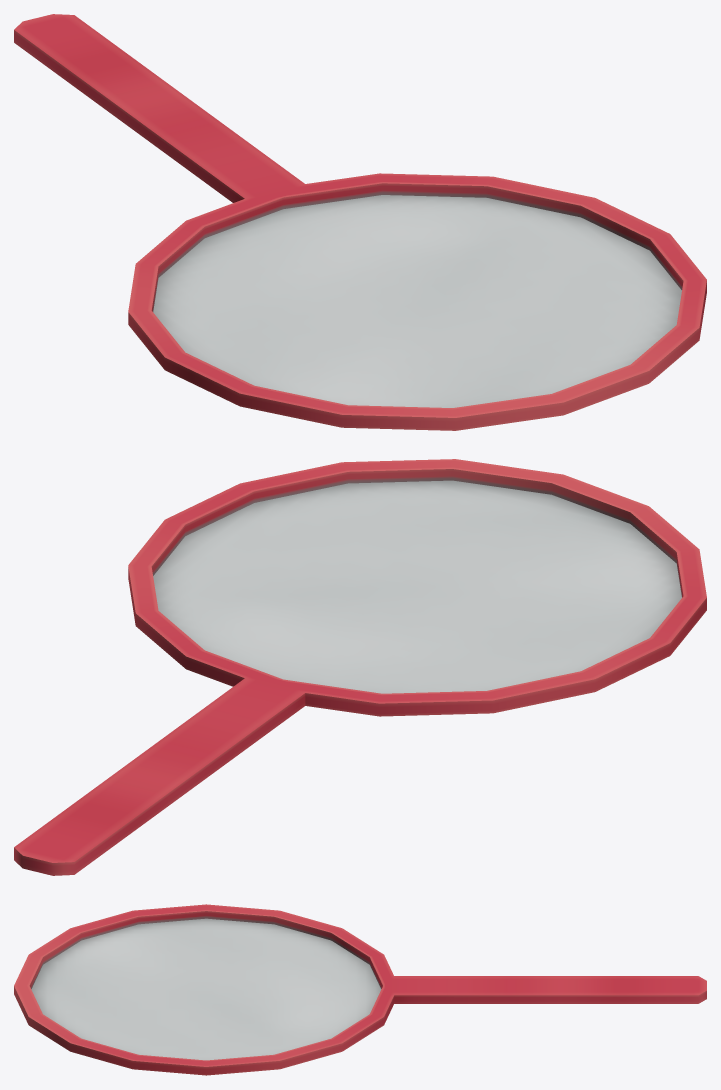
File: jsf_Poi_02.fbx
3 renders of one model, top to bottom at view 1: azimuth 30°, elevation 25°; view 2: azimuth 150°, elevation 25°; view 3: azimuth 270°, elevation 25°, orthographic. The views are drawn at different scales.
Visible parts, largest first — view 1: jsf_Poi_02; view 2: jsf_Poi_02; view 3: jsf_Poi_02.
Part boxes in pixels (box(x1,y1,x2,y2)): jsf_Poi_02: box(14, 14, 706, 430); jsf_Poi_02: box(14, 459, 706, 875); jsf_Poi_02: box(14, 904, 706, 1075).
Bounding box in the file's own units: 8.21 × 0.2 × 14.79.
